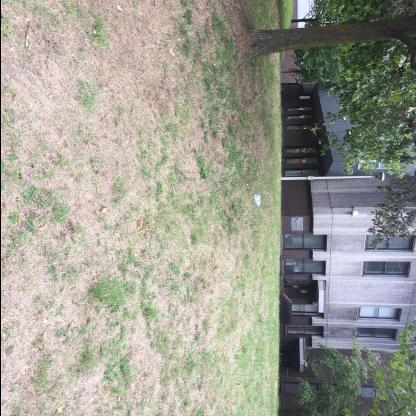plastik: (253, 195, 261, 209)
